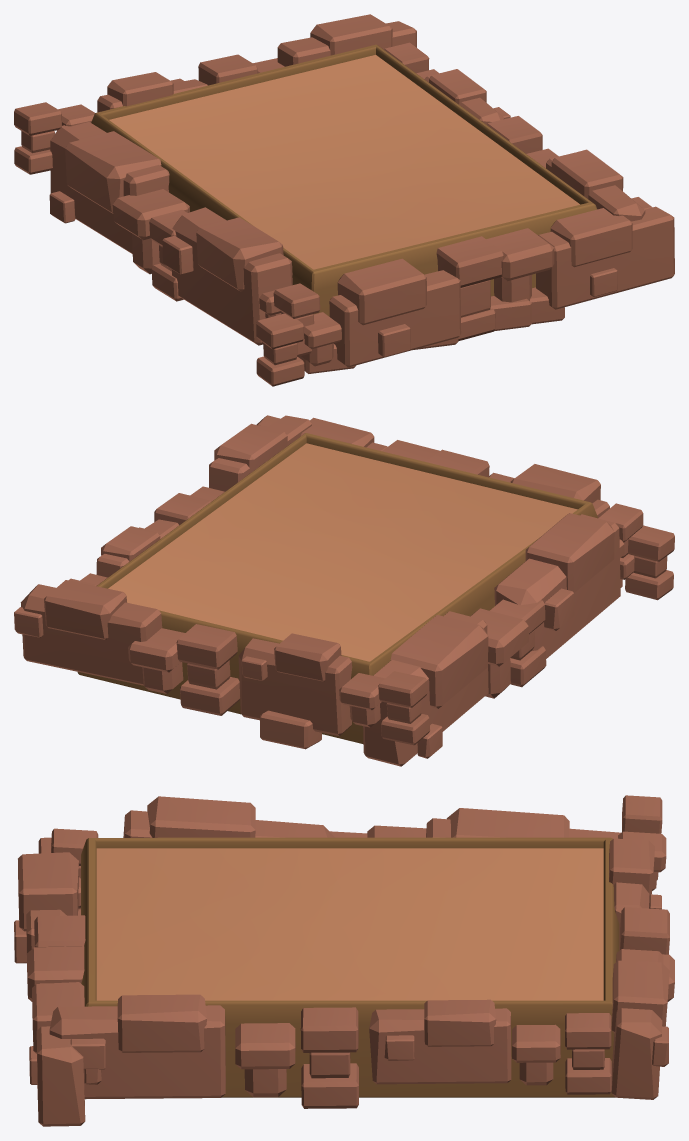
Rendered from Arena_1.fbx.
3 views of the same model, one above another, from view 1: azimuth 30°, elevation 25°; view 2: azimuth 150°, elevation 25°; view 3: azimuth 270°, elevation 25° (orthographic). The views are drawn at different scales.
Visible parts, largest first — view 1: polySurface1363, pCube1, polySurface1406; view 2: polySurface1363, pCube1, polySurface1406; view 3: polySurface1363, pCube1, polySurface1406.
Part boxes in pixels (<box>): polySurface1363: <box>14,14,674,386</box>; pCube1: <box>109,55,579,269</box>; polySurface1406: <box>91,44,597,316</box>; polySurface1363: <box>14,415,674,766</box>; pCube1: <box>108,443,577,661</box>; polySurface1406: <box>77,433,597,743</box>; polySurface1363: <box>14,795,674,1126</box>; pCube1: <box>96,848,603,1000</box>; polySurface1406: <box>81,837,619,1097</box>.
Bounding box in the file's own units: 16.78 × 4.2 × 19.63.
1 material, 1 textured.
